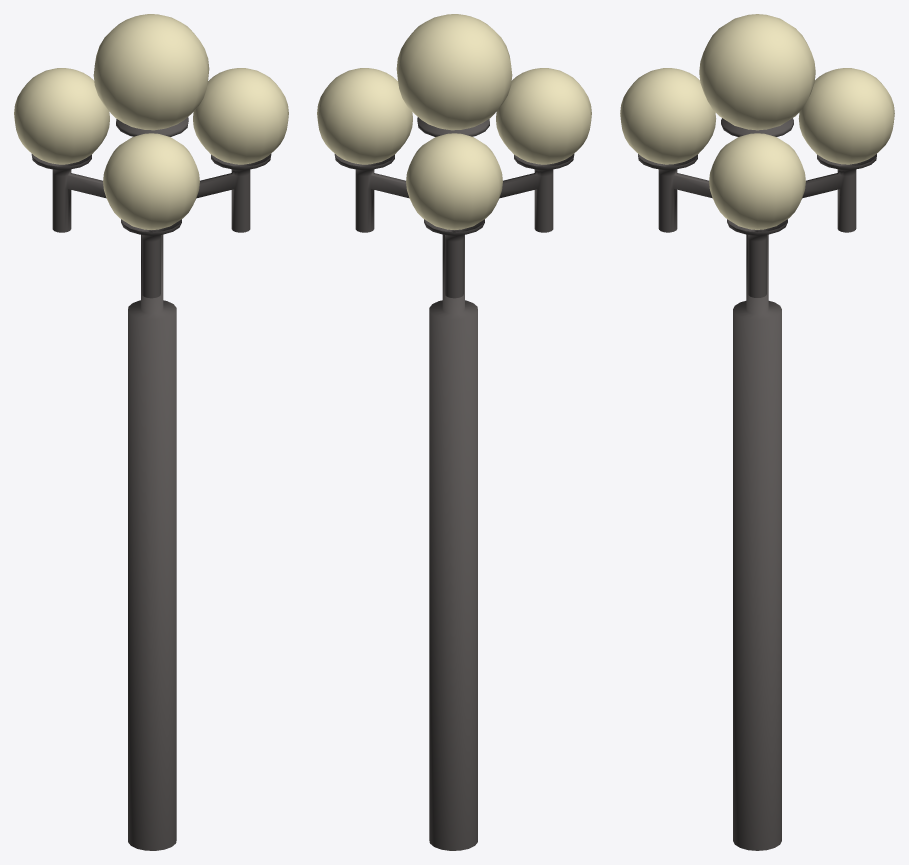
Rendered from obj_lamp.fbx.
3 views of the same model, side by side, from view 1: azimuth 30°, elevation 25°; view 2: azimuth 150°, elevation 25°; view 3: azimuth 270°, elevation 25° (orthographic).
Visible parts, largest first — view 1: Obj_Lampose1; view 2: Obj_Lampose1; view 3: Obj_Lampose1.
Part boxes in pixels (x1,y1,x2,y2): Obj_Lampose1: (14, 14, 288, 850); Obj_Lampose1: (317, 14, 591, 850); Obj_Lampose1: (620, 14, 894, 850).
Size of the model in its own units: 117 by 423 by 128.
